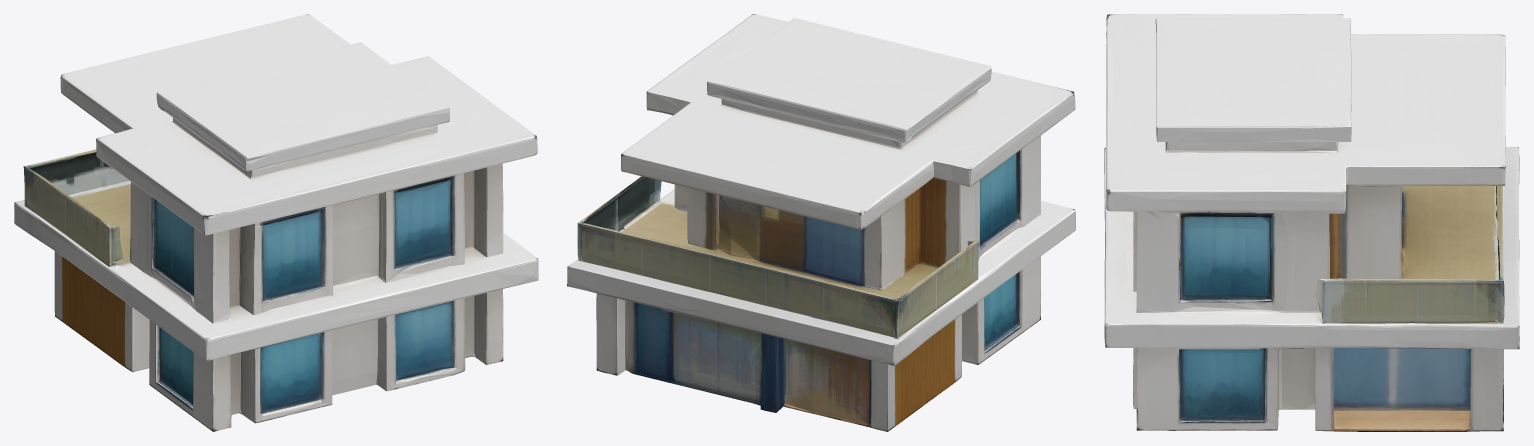
The model's file is beach_villa.glb.
3 renders of one model, left to right at view 1: azimuth 30°, elevation 25°; view 2: azimuth 150°, elevation 25°; view 3: azimuth 270°, elevation 25°, orthographic. The views are drawn at different scales.
Parts seen in each view (by area): view 1: geometry_0; view 2: geometry_0; view 3: geometry_0.
Part boxes in pixels (x1=…): geometry_0: x1=14, y1=14, x2=538, y2=431; geometry_0: x1=567, y1=14, x2=1075, y2=431; geometry_0: x1=1104, y1=14, x2=1519, y2=431.
Size of the model in its own units: 0.4869 by 0.359 by 0.4765.
Materials: 1 (1 with a texture image).
